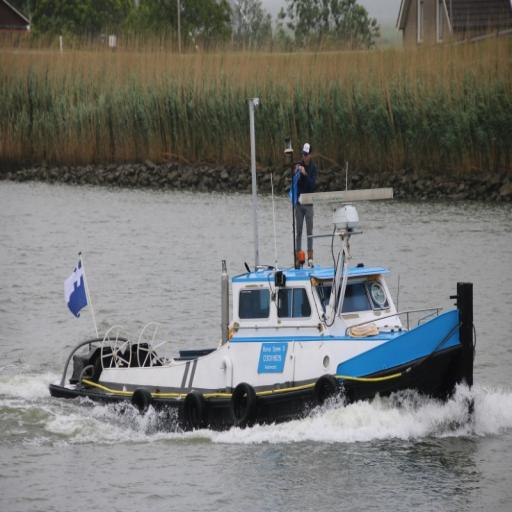tugboat: (47, 167, 484, 444)
